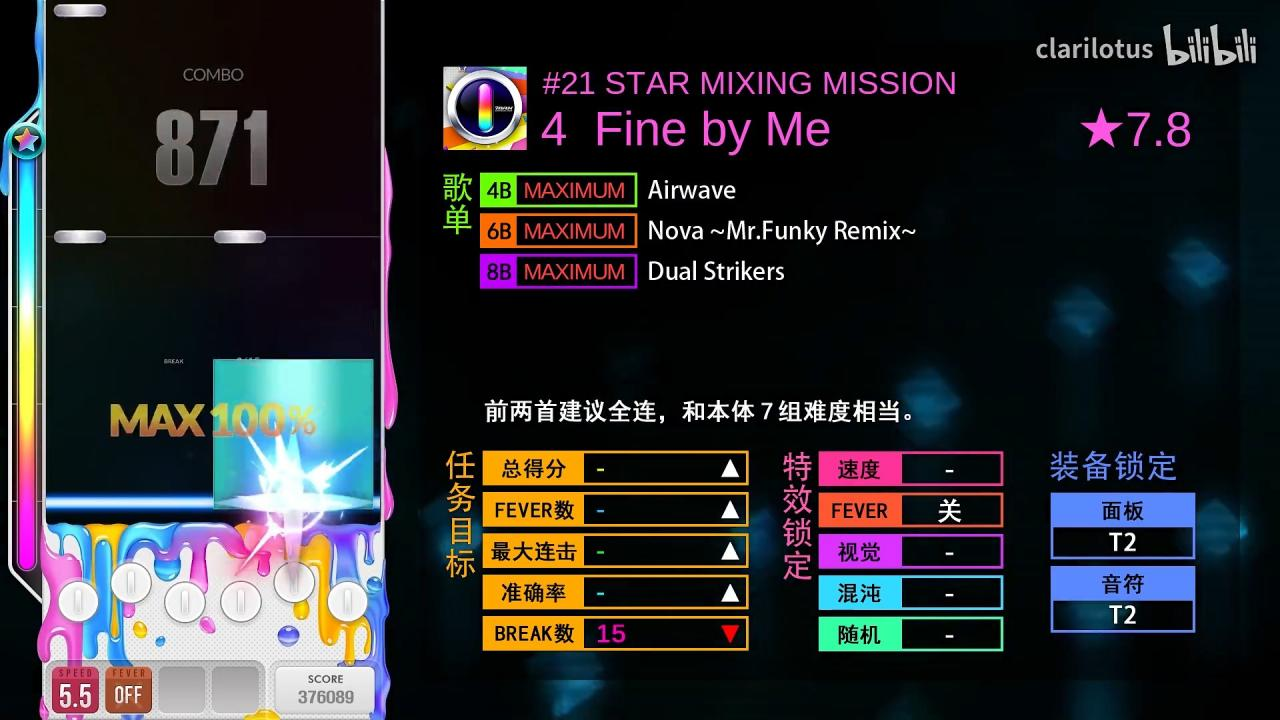note: (54, 229, 106, 244), (214, 230, 266, 244), (54, 4, 106, 18)
side-end: (213, 359, 373, 371)
